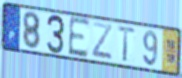3: (45, 13, 66, 55)
8: (21, 10, 42, 52)
9: (142, 30, 158, 68)
E: (67, 15, 91, 60)
T: (116, 25, 137, 64)
Z: (91, 21, 113, 62)
